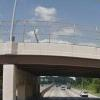Bridge: (8, 25, 100, 81)
